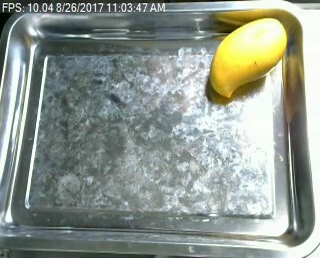Mango: (207, 10, 295, 103)
